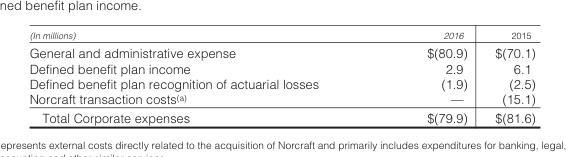table: (28, 29, 534, 125)
table column: (28, 29, 372, 125), (372, 29, 480, 125), (480, 29, 534, 125)
table column header: (28, 29, 534, 42)
table row: (28, 42, 534, 60), (28, 90, 534, 108), (28, 108, 534, 125), (28, 60, 534, 75), (28, 75, 534, 90), (28, 29, 534, 42)
